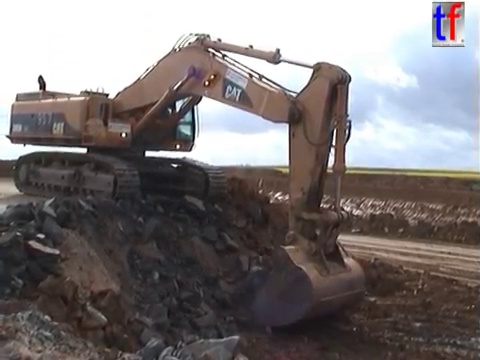excavator: (3, 30, 368, 329)
